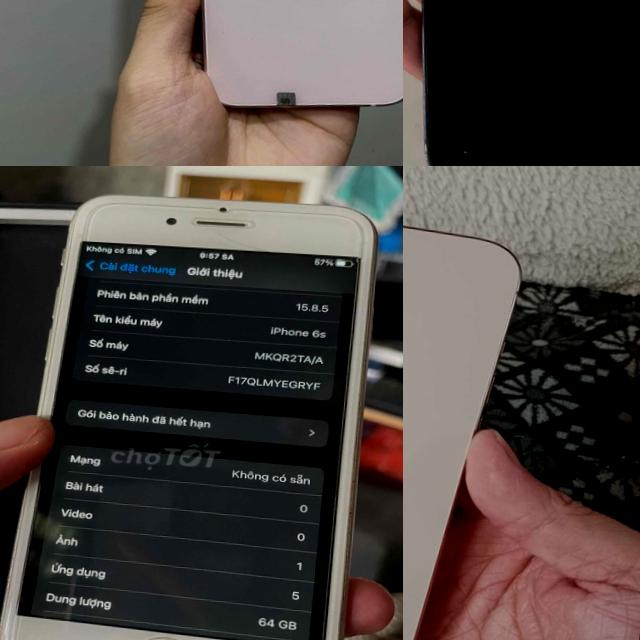gen_12_13: (403, 0, 640, 166), (175, 0, 403, 119)
gen_16: (403, 226, 520, 640)
gen_6: (0, 184, 403, 640)
